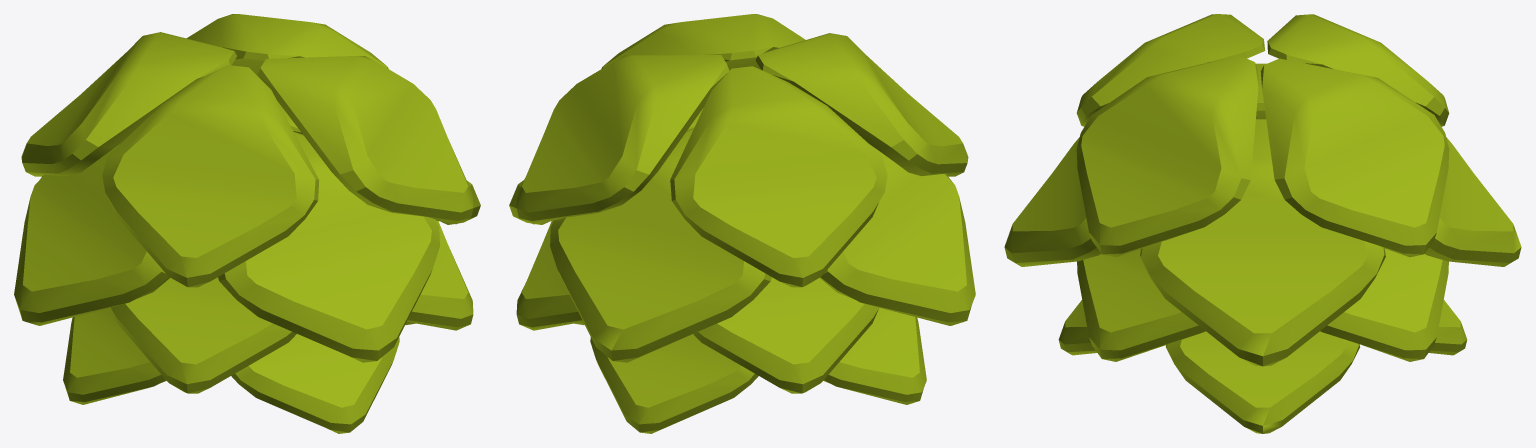
The model's file is Bush.glb.
The picture shows the model from 3 angles, left to right: view 1: azimuth 30°, elevation 25°; view 2: azimuth 150°, elevation 25°; view 3: azimuth 270°, elevation 25°; orthographic projection.
Parts seen in each view (by area): view 1: Bush; view 2: Bush; view 3: Bush.
Boxes of the visible parts, x1,y1,x2,y2 form: Bush: [14, 14, 480, 433]; Bush: [509, 14, 975, 433]; Bush: [1004, 14, 1521, 433].
Size of the model in its own units: 3.09 by 1.96 by 3.09.
1 material, 1 textured.
